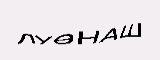Т: (122, 14, 135, 32)
У: (43, 12, 62, 35)
Х: (27, 11, 44, 37)
Ш: (97, 15, 120, 33)
Щ: (63, 12, 93, 37)
